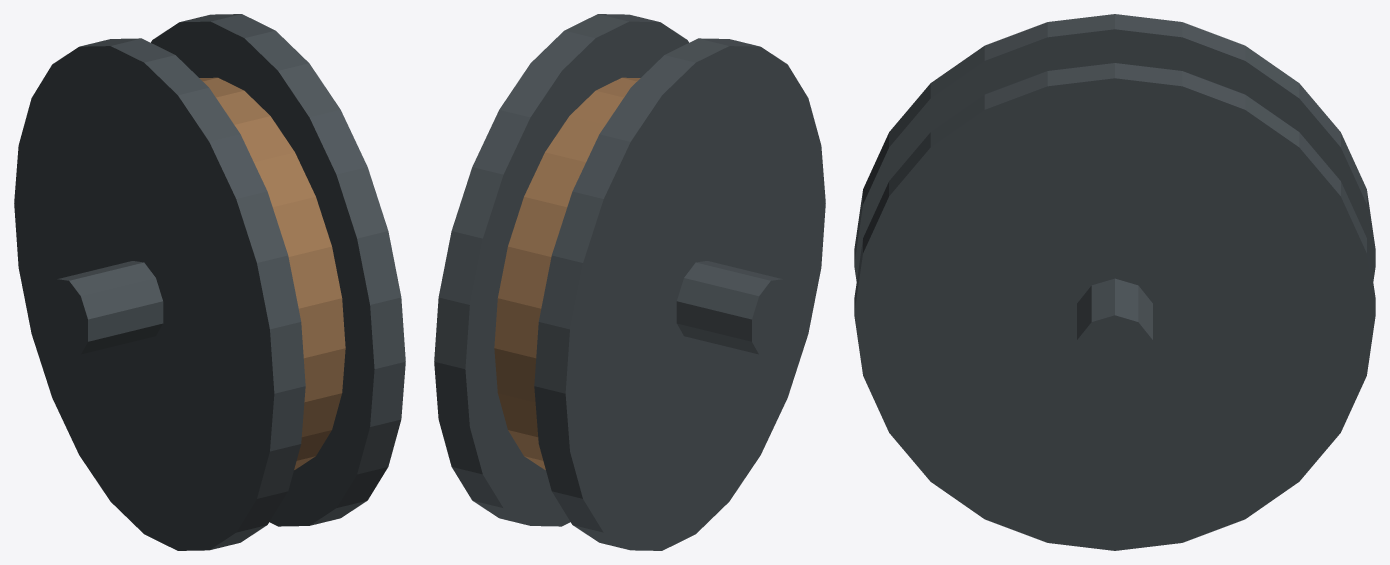
Rendered from Chain_Pulley.glb.
3 renders of one model, left to right at view 1: azimuth 30°, elevation 25°; view 2: azimuth 150°, elevation 25°; view 3: azimuth 270°, elevation 25°, orthographic.
Visible parts, largest first — view 1: Chain_Pulley; view 2: Chain_Pulley; view 3: Chain_Pulley.
Boxes of the visible parts, bbox=[...] form: Chain_Pulley: bbox=[14, 14, 405, 550]; Chain_Pulley: bbox=[434, 14, 825, 550]; Chain_Pulley: bbox=[854, 14, 1375, 550].
Size of the model in its own units: 0.9 by 1.44 by 1.44.
